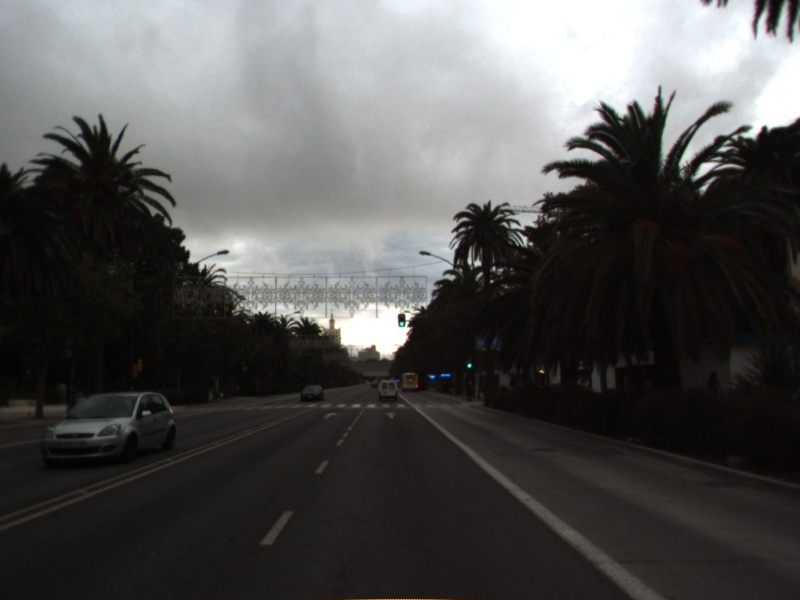STRAIGHT: (320, 410, 339, 421), (382, 410, 400, 421)
